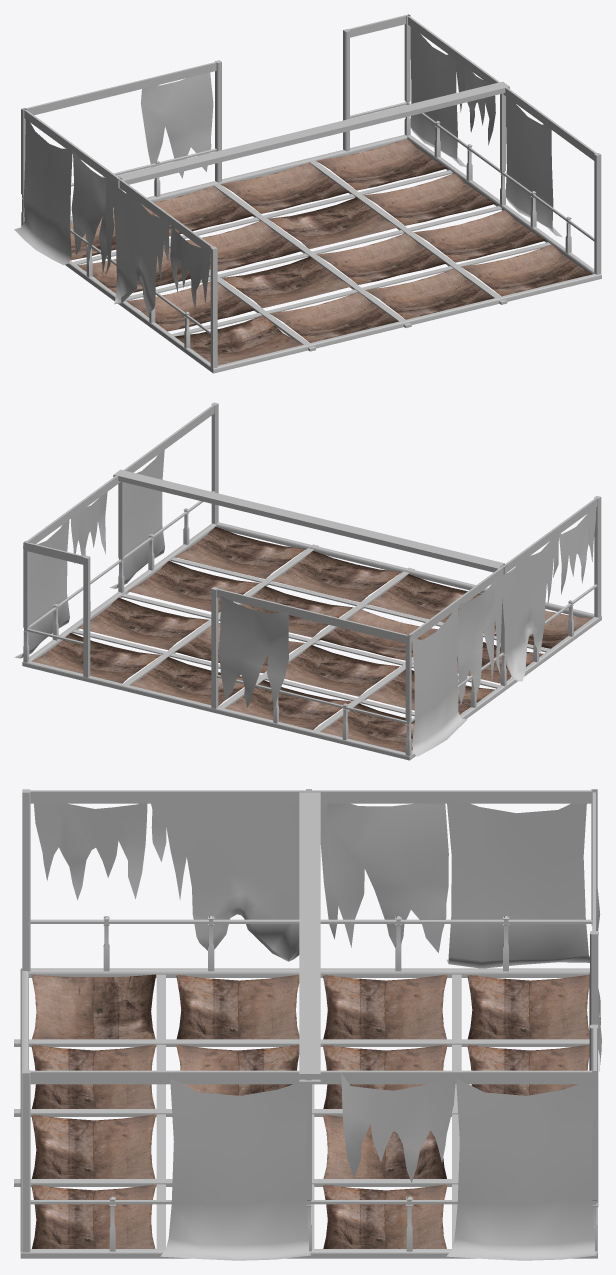
Rendered from Centre Upper Large_A2.fbx.
3 views of the same model, one above another, from view 1: azimuth 30°, elevation 25°; view 2: azimuth 150°, elevation 25°; view 3: azimuth 270°, elevation 25° (orthographic). The views are drawn at different scales.
Visible parts, largest first — view 1: ClothNet (×16), Cloth_01 (×3), Cloth_04 (×2), WoodFrame, Cloth_03, WoodBlock_Top, WoodBlock_Bottom_L (×3), RailingTop_L (×2), RailingBlock_Corner (×4), Cloth_02 (×2), RailingTop_M, RailingBlock_L (×3) (+1 smaller); view 2: ClothNet (×16), Cloth_01 (×3), Cloth_04 (×2), WoodFrame, Cloth_03, WoodBlock_Top, RailingTop_L (×2), RailingBlock_Corner (×4), WoodBlock_Bottom_L (×3), Cloth_02 (×2), RailingBlock_L (×3), RailingTop_M (+2 smaller); view 3: ClothNet (×12), Cloth_01 (×3), Cloth_03, RailingTop_L (×2), Cloth_02 (×2), Cloth_04, WoodFrame, WoodBlock_Bottom_L (×3), WoodBlock_Top, RailingBlock_Corner (×3), Railing_Hori (×4), WoodBlock_Bottom_S (×3) (+1 smaller).
Boxes of the visible parts, box(x1,y1,x2,y2) form: ClothNet (×16): box(70, 138, 591, 365); Cloth_01 (×3): box(14, 27, 562, 265); Cloth_04 (×2): box(71, 72, 213, 274); WoodFrame: box(65, 134, 601, 373); Cloth_03: box(105, 173, 170, 314); WoodBlock_Top: box(117, 81, 509, 184); WoodBlock_Bottom_L (×3): box(164, 160, 507, 351); RailingTop_L (×2): box(24, 16, 596, 253); RailingBlock_Corner (×4): box(210, 29, 601, 368); Cloth_02 (×2): box(170, 60, 495, 309); RailingTop_M: box(26, 62, 216, 115); RailingBlock_L (×3): box(21, 14, 505, 226); ClothNet (×16): box(32, 526, 591, 752); Cloth_01 (×3): box(14, 450, 467, 756); Cloth_04 (×2): box(218, 581, 495, 710); WoodFrame: box(22, 522, 601, 760); Cloth_03: box(494, 530, 559, 681); WoodBlock_Top: box(113, 469, 504, 572); RailingTop_L (×2): box(26, 405, 597, 641); RailingBlock_Corner (×4): box(83, 402, 601, 708); WoodBlock_Bottom_L (×3): box(123, 544, 414, 731); Cloth_02 (×2): box(71, 492, 596, 594); RailingBlock_L (×3): box(23, 481, 411, 755); RailingTop_M: box(216, 588, 406, 643); ClothNet (×12): box(31, 974, 589, 1248); Cloth_01 (×3): box(160, 803, 597, 1260); Cloth_03: box(151, 803, 338, 961); RailingTop_L (×2): box(30, 790, 592, 1084); Cloth_02 (×2): box(34, 803, 456, 1182); Cloth_04: box(326, 803, 448, 952); WoodFrame: box(20, 968, 597, 1258); WoodBlock_Bottom_L (×3): box(14, 1039, 589, 1186); WoodBlock_Top: box(299, 792, 320, 1081); RailingBlock_Corner (×3): box(22, 789, 598, 1252); Railing_Hori (×4): box(30, 919, 592, 1204); WoodBlock_Bottom_S (×3): box(156, 974, 461, 1178).
Bounding box in the file's own units: 11.14 × 3.42 × 9.2.
